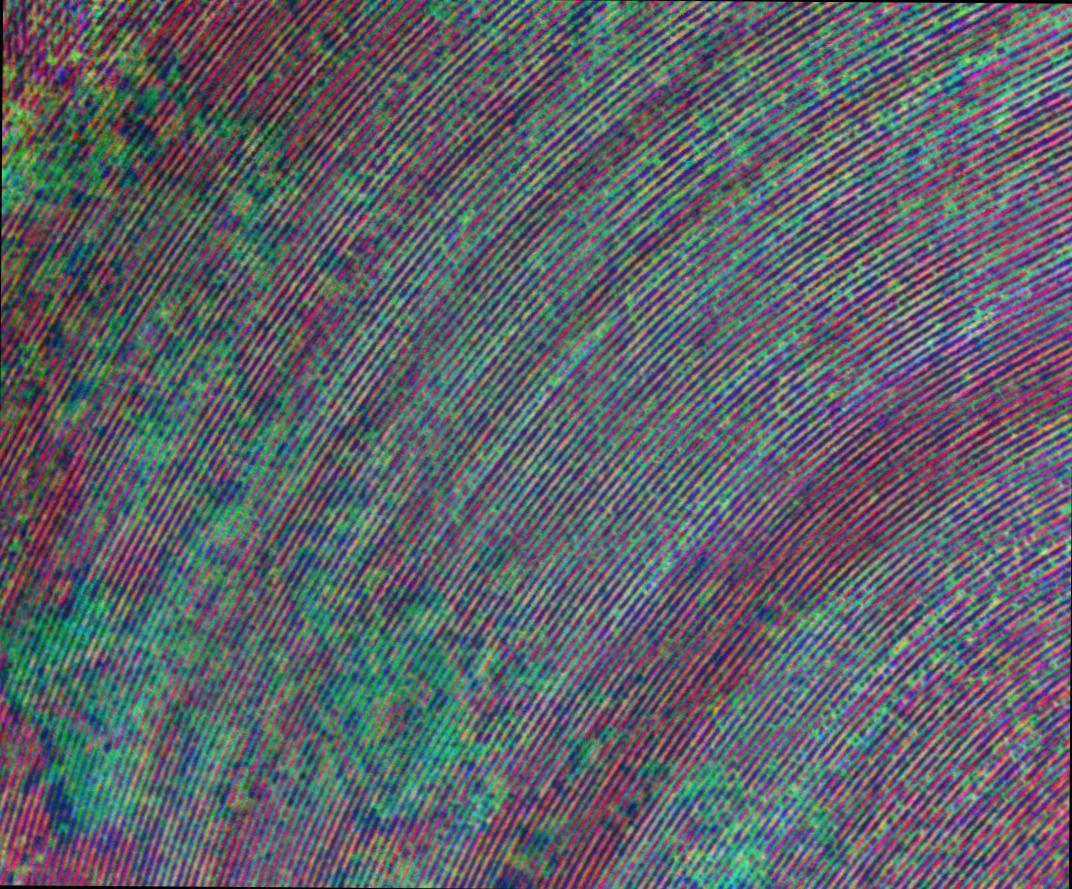dc: (828, 663, 832, 668), (632, 540, 636, 544), (891, 654, 896, 657), (218, 525, 222, 528), (399, 871, 402, 875), (951, 582, 954, 585), (331, 690, 334, 693), (377, 806, 380, 809), (757, 854, 760, 857), (238, 508, 241, 510)
